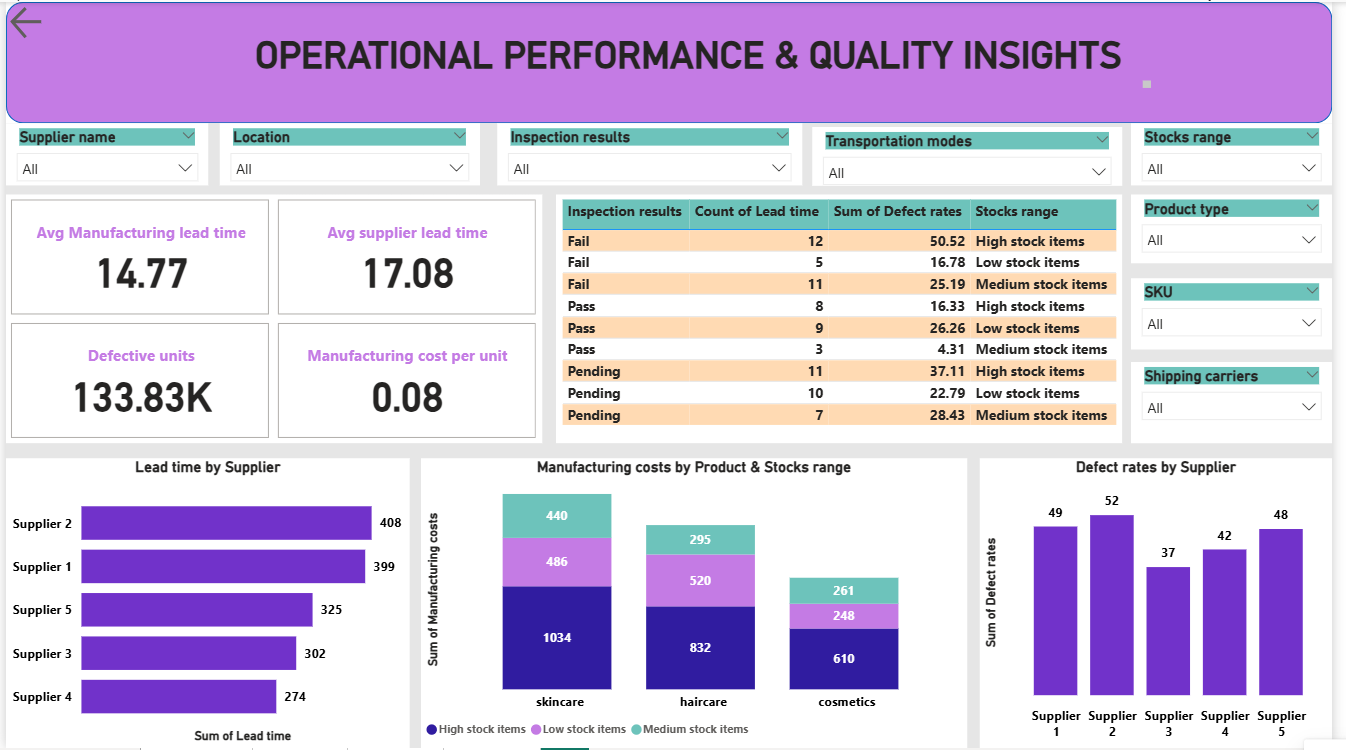

What the dashboard file says about the page in this screenshot:
{"tool":"powerbi","page":{"name":"Page 3","canvas":[1280,720],"ordinal":3},"visuals":[{"type":"barChart","title":"Lead time by Supplier","fields":{"Y":["Sum(supply chain data.Lead time)"],"Category":["supply chain data.Supplier name"]},"box":[0,440.4,389.7,279.9],"z":0},{"type":"clusteredColumnChart","title":" Defect rates by Supplier","fields":{"Y":["Sum(supply chain data.Defect rates)"],"Category":["supply chain data.Supplier name"]},"box":[939.8,440.4,340.2,279.9],"z":1000},{"type":"tableEx","fields":{"Values":["supply chain data.Inspection results","Count(supply chain data.Lead time)","Sum(supply chain data.Defect rates)","supply chain data.Stocks range"]},"box":[530.8,185.8,546.5,240.1],"z":2000},{"type":"columnChart","title":"Manufacturing costs by Product & Stocks range","fields":{"Y":["Sum(supply chain data.Manufacturing costs)"],"Category":["supply chain data.Product type"],"Series":["supply chain data.Stocks range"]},"box":[400.5,440.4,527.2,279.9],"z":3000},{"type":"cardVisual","fields":{"Data":["Page 3.Avg Manufacturing lead time","Page 3.Avg supplier lead time","Page 3.Defective units","Page 3.Manufacturing cost per unit"]},"box":[0,185.8,517.6,240.1],"z":4000},{"type":"shape","box":[0,0,1280,117],"z":5000},{"type":"slicer","fields":{"Values":["supply chain data.Product type"]},"box":[1085.8,185.8,194.2,66.4],"z":6000},{"type":"slicer","fields":{"Values":["supply chain data.SKU"]},"box":[1085.8,266.6,194.2,68.8],"z":7000},{"type":"slicer","fields":{"Values":["supply chain data.Supplier name"]},"box":[0,117,195.4,60.3],"z":8000},{"type":"slicer","fields":{"Values":["supply chain data.Location"]},"box":[206.3,117,250.9,60.3],"z":9000},{"type":"slicer","fields":{"Values":["supply chain data.Transportation modes"]},"box":[778.2,120.6,299.2,56.7],"z":10000},{"type":"slicer","fields":{"Values":["supply chain data.Shipping carriers"]},"box":[1085.8,347.5,194.2,78.4],"z":11000},{"type":"slicer","fields":{"Values":["supply chain data.Stocks range"]},"box":[1085.8,117,194.2,60.3],"z":12000},{"type":"slicer","fields":{"Values":["supply chain data.Inspection results"]},"box":[474.1,117,294.4,60.3],"z":13000},{"type":"textbox","title":"OPERATIONAL PERFORMANCE & QUALITY INSIGHTS","box":[207.5,30.2,902.4,57.9],"z":14000},{"type":"actionButton","box":[0,0,100,40],"z":15000}]}

Visuals, with their boxes in screenshot pixels (x1, y1, x2, y2), scaled from the page's 1280x720 canvas onto the 1346x750 screenshot:
"Lead time by Supplier" barChart: (0,459,410,749)
" Defect rates by Supplier" clusteredColumnChart: (988,459,1345,749)
tableEx - supply chain data.Inspection results x Count(supply chain data.Lead time): (558,194,1133,444)
"Manufacturing costs by Product & Stocks range" columnChart: (421,459,976,749)
cardVisual - Page 3.Avg Manufacturing lead time x Page 3.Avg supplier lead time: (0,194,544,444)
shape: (0,0,1345,122)
slicer - supply chain data.Product type: (1142,194,1345,263)
slicer - supply chain data.SKU: (1142,278,1345,349)
slicer - supply chain data.Supplier name: (0,122,205,185)
slicer - supply chain data.Location: (217,122,481,185)
slicer - supply chain data.Transportation modes: (818,126,1133,185)
slicer - supply chain data.Shipping carriers: (1142,362,1345,444)
slicer - supply chain data.Stocks range: (1142,122,1345,185)
slicer - supply chain data.Inspection results: (499,122,808,185)
"OPERATIONAL PERFORMANCE & QUALITY INSIGHTS" textbox: (218,31,1167,92)
actionButton: (0,0,105,42)
